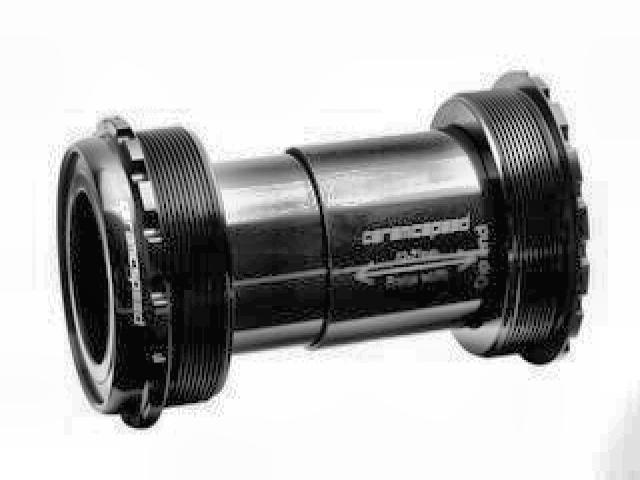bottom_bracket: (54, 67, 592, 434)
